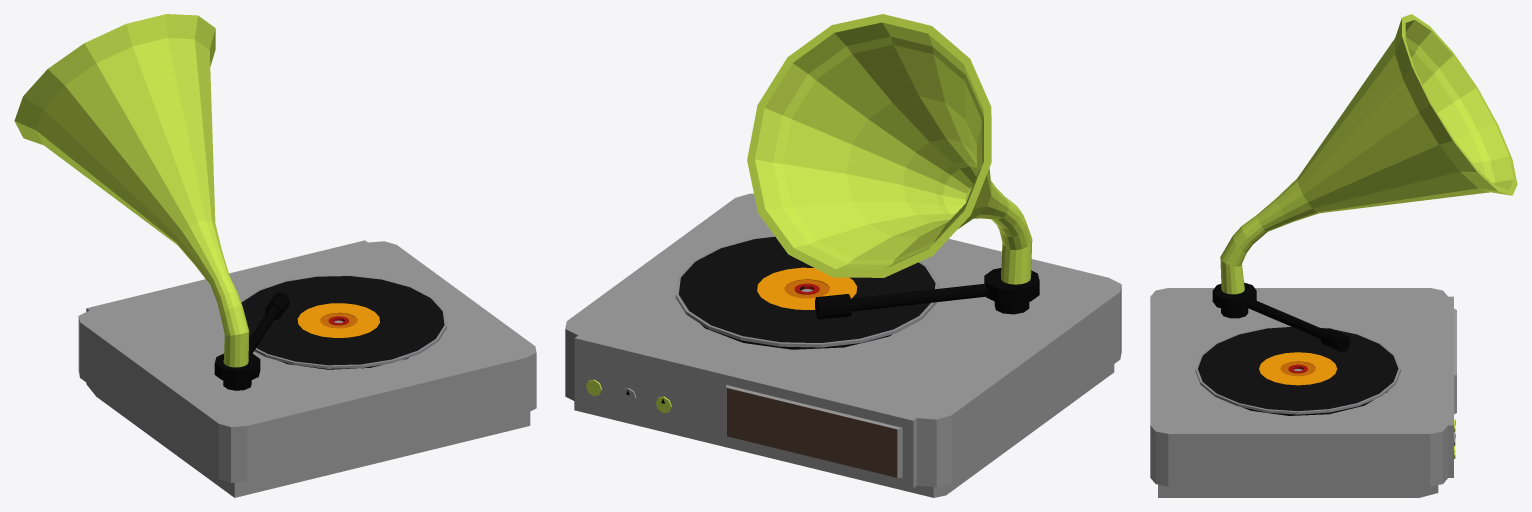
The model's file is recordPlayer.fbx.
3 views of the same model, side by side, from view 1: azimuth 30°, elevation 25°; view 2: azimuth 150°, elevation 25°; view 3: azimuth 270°, elevation 25° (orthographic). The views are drawn at different scales.
Parts seen in each view (by area): view 1: Cylinder.006; view 2: Cylinder.006; view 3: Cylinder.006.
Boxes of the visible parts, x1=… form: Cylinder.006: x1=14, y1=14, x2=536, y2=497; Cylinder.006: x1=565, y1=14, x2=1121, y2=497; Cylinder.006: x1=1150, y1=14, x2=1517, y2=497.
Size of the model in its own units: 265 by 264 by 247.
